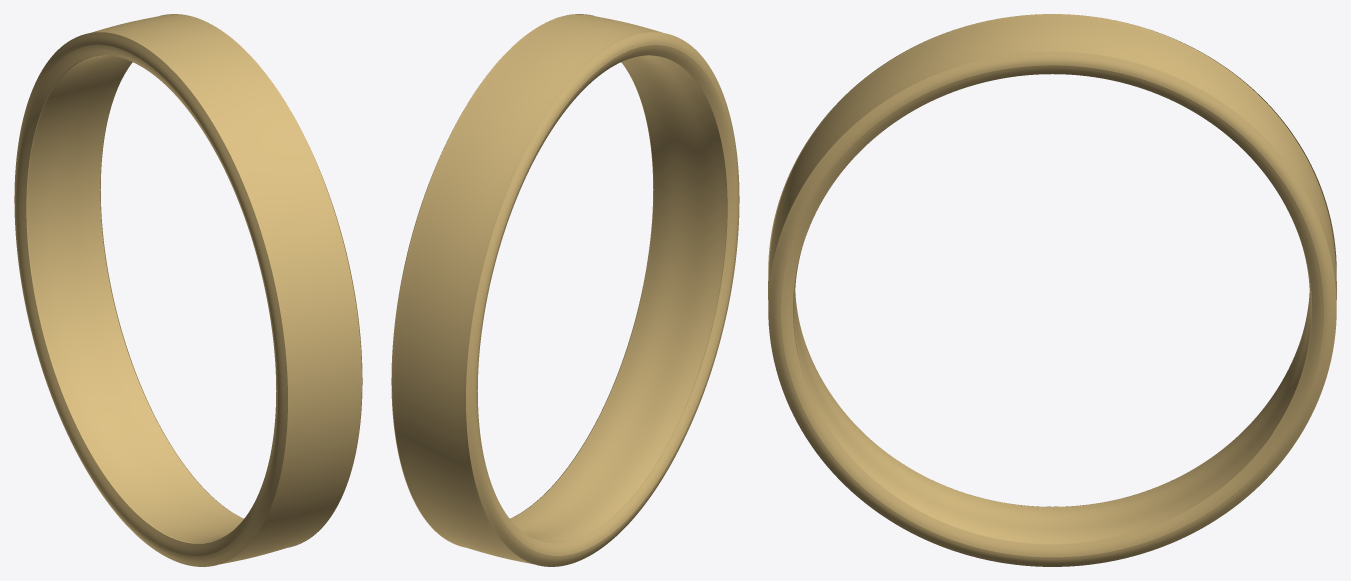
3 renders of one model, left to right at view 1: azimuth 30°, elevation 25°; view 2: azimuth 150°, elevation 25°; view 3: azimuth 270°, elevation 25°, orthographic. The views are drawn at different scales.
Visible parts, largest first — view 1: P6-Outer, P6-Inner, P6-Sides; view 2: P6-Outer, P6-Inner, P6-Sides; view 3: P6-Sides, P6-Outer, P6-Inner.
Boxes of the visible parts, left/top/right/bottom form: P6-Outer: left=26, top=14, right=361, bottom=564; P6-Inner: left=27, top=55, right=243, bottom=543; P6-Sides: left=14, top=14, right=362, bottom=566; P6-Outer: left=392, top=14, right=727, bottom=564; P6-Inner: left=510, top=55, right=726, bottom=543; P6-Sides: left=391, top=14, right=739, bottom=566; P6-Sides: left=768, top=14, right=1336, bottom=566; P6-Outer: left=768, top=14, right=1336, bottom=544; P6-Inner: left=793, top=143, right=1311, bottom=543.
Bounding box in the file's own units: 0.3993 × 2.3 × 2.3.
